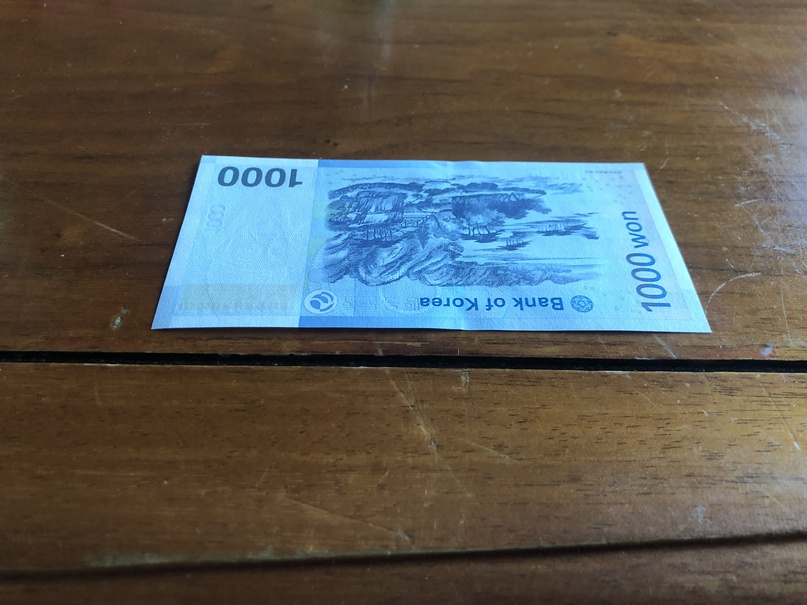1000won: (152, 153, 712, 332)
